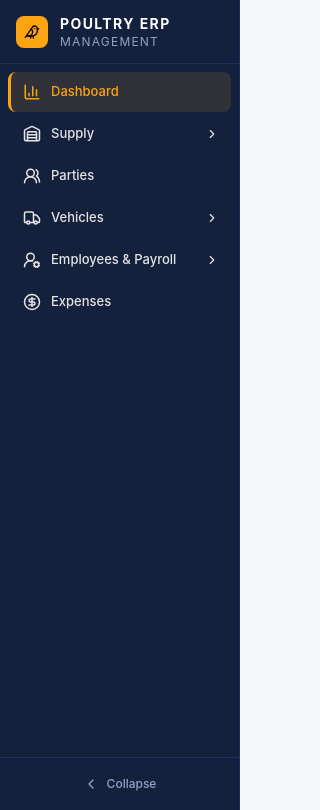
Sidebar › shows only the assigned section and dashboard to department staff
The image size is (320, 810).
expect the text "Dashboard" is shown: met, box [51,82,119,102]
expect the text "Supply" is shown: met, box [51,125,94,141]
Step 1. Click the button "Supply" → (120, 134), box [8,114,231,154]
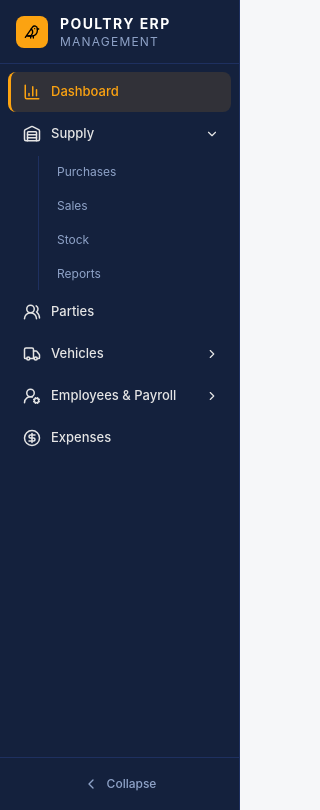
expect the link "Reports" is shown: met, box [57,266,101,281]
